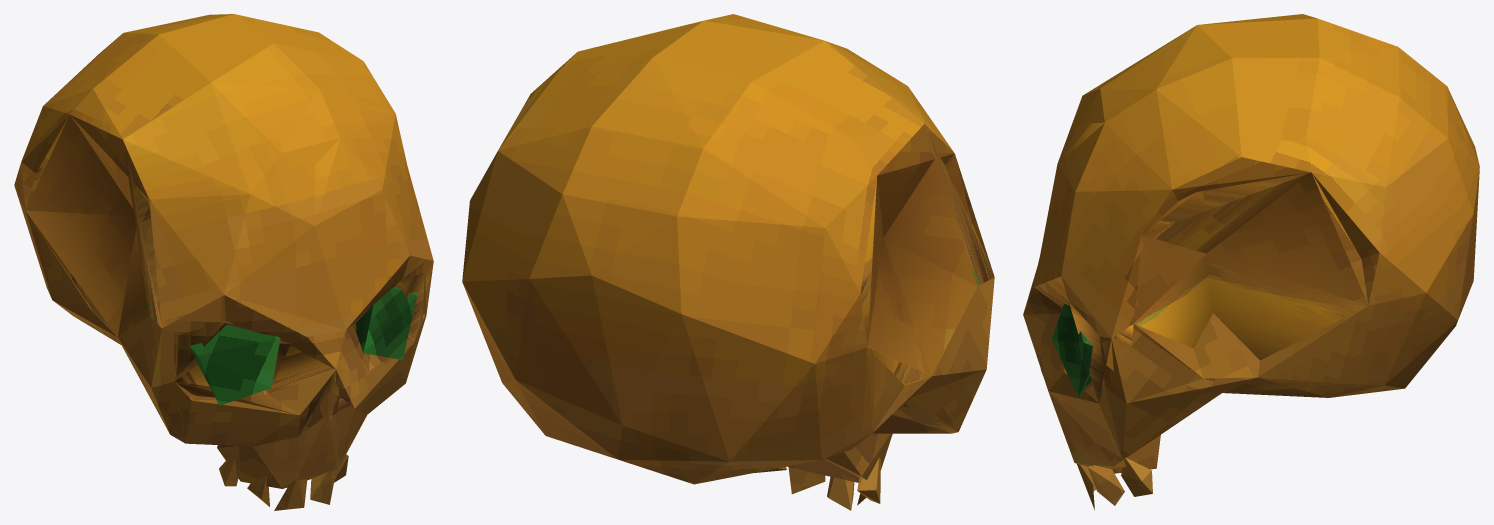
Rendered from item_quest_gy_skull_special.glb.
The picture shows the model from 3 angles, left to right: view 1: azimuth 30°, elevation 25°; view 2: azimuth 150°, elevation 25°; view 3: azimuth 270°, elevation 25°; orthographic projection. The views are drawn at different scales.
Visible parts, largest first — view 1: GoldSkull; view 2: GoldSkull; view 3: GoldSkull.
Boxes of the visible parts, x1,y1,x2,y2 form: GoldSkull: (14, 14, 433, 510); GoldSkull: (462, 14, 994, 510); GoldSkull: (1023, 14, 1479, 510).
Bounding box in the file's own units: 0.2355 × 0.3063 × 0.2777.
1 material, 1 textured.
